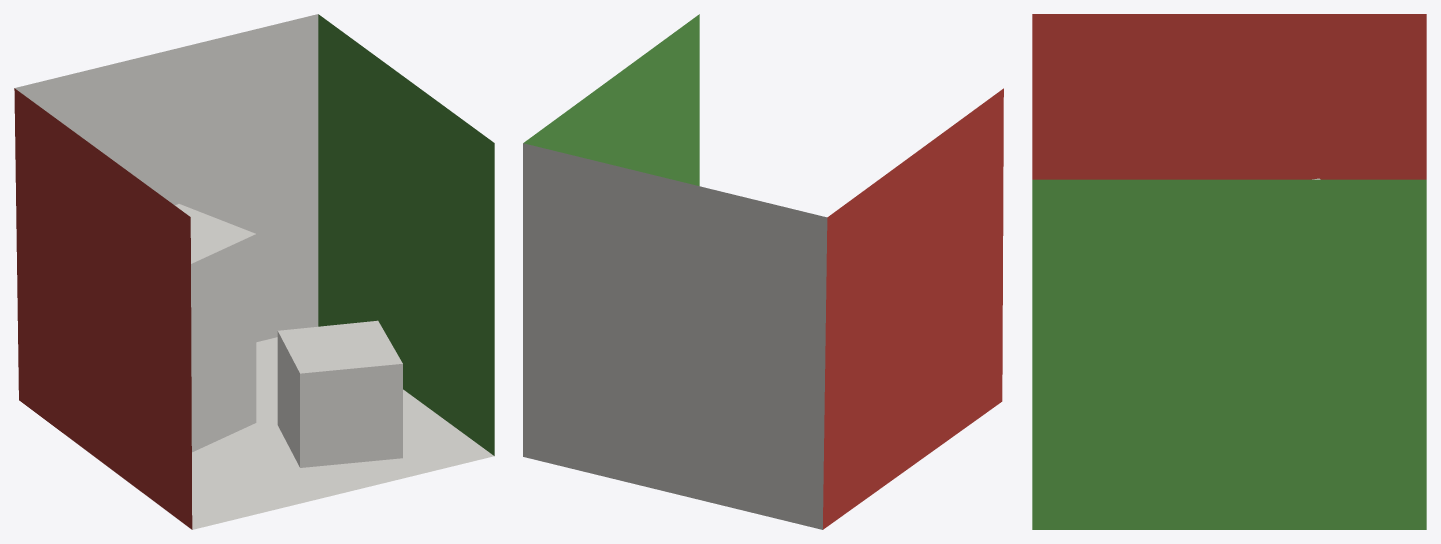
The model's file is CornellBoxUV.fbx.
3 views of the same model, side by side, from view 1: azimuth 30°, elevation 25°; view 2: azimuth 150°, elevation 25°; view 3: azimuth 270°, elevation 25° (orthographic). The views are drawn at different scales.
Parts seen in each view (by area): view 1: CornellBox-Original.004, CornellBox-Original.003, CornellBox-Original.002, CornellBox-Original, CornellBox-Original.014, CornellBox-Original.007, CornellBox-Original.005, CornellBox-Original.006, CornellBox-Original.010; view 2: CornellBox-Original.002, CornellBox-Original.004, CornellBox-Original.003; view 3: CornellBox-Original.003, CornellBox-Original.004.
Boxes of the visible parts, x1,y1,x2,y2 form: CornellBox-Original.004: (14, 88, 192, 529); CornellBox-Original.003: (318, 14, 494, 455); CornellBox-Original.002: (15, 14, 318, 342); CornellBox-Original: (192, 337, 493, 529); CornellBox-Original.014: (191, 234, 256, 452); CornellBox-Original.007: (300, 364, 402, 467); CornellBox-Original.005: (278, 320, 402, 373); CornellBox-Original.006: (277, 331, 299, 466); CornellBox-Original.010: (175, 204, 255, 263); CornellBox-Original.002: (523, 143, 827, 529); CornellBox-Original.004: (823, 88, 1003, 529); CornellBox-Original.003: (523, 14, 699, 185); CornellBox-Original.003: (1032, 179, 1426, 529); CornellBox-Original.004: (1032, 14, 1426, 179).
Size of the model in its own units: 202 by 199 by 203.
